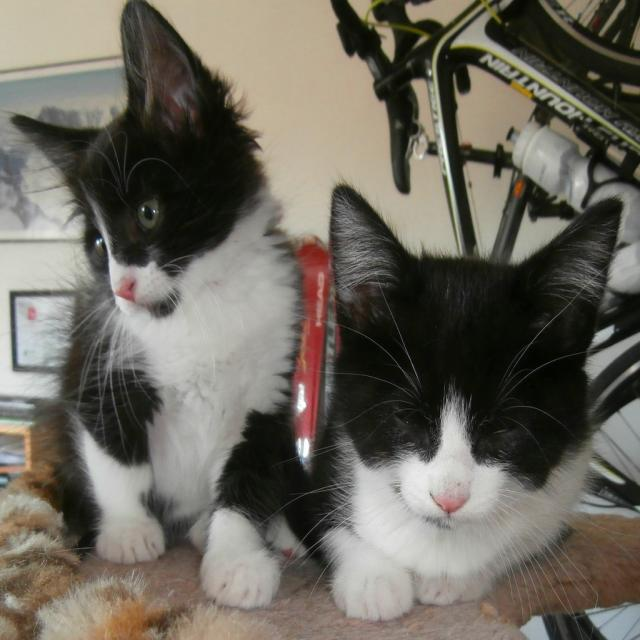Cat: (0, 0, 319, 615), (261, 175, 639, 622)
